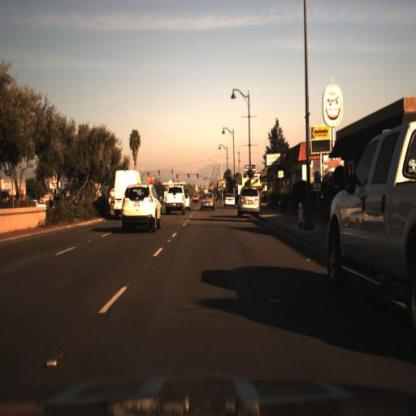car: (329, 125, 416, 328), (120, 181, 163, 242), (167, 184, 191, 214), (237, 189, 262, 217), (200, 194, 217, 213)
truck: (116, 171, 148, 226)
